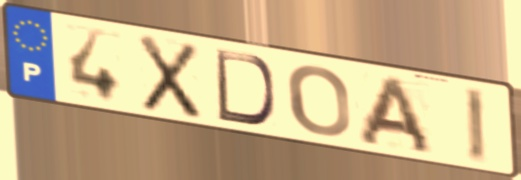4: (67, 26, 126, 104)
A: (354, 73, 436, 157)
D: (213, 46, 279, 128)
I: (461, 85, 489, 167)
O: (284, 63, 354, 138)
X: (136, 32, 203, 123)
